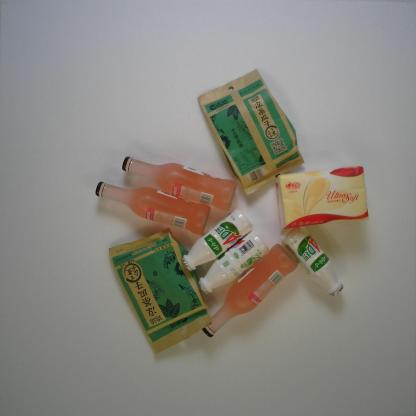Alcohol: (201, 241, 300, 339), (121, 155, 238, 212), (93, 180, 211, 236)
Dried Food: (197, 67, 306, 197), (108, 226, 212, 356)
Milk: (180, 206, 254, 272), (197, 230, 270, 296), (279, 226, 345, 297)
Tissue: (274, 165, 370, 231)
